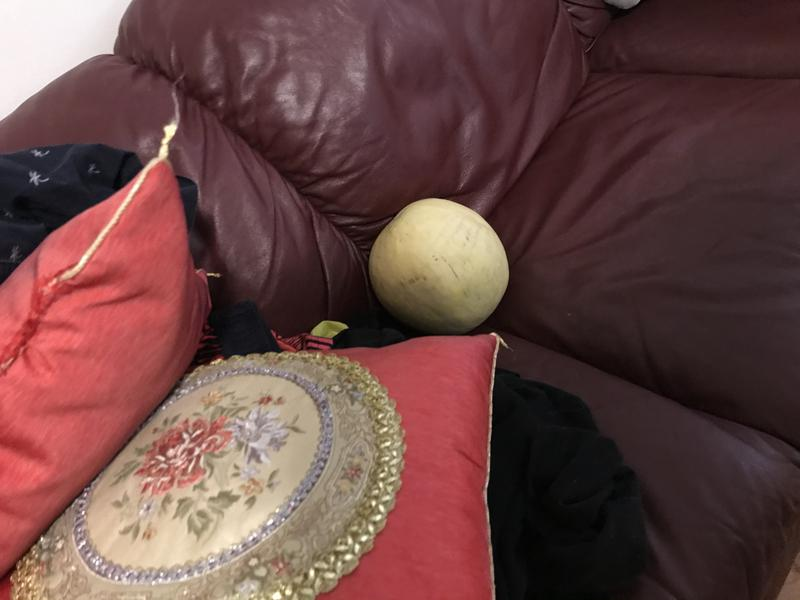honeydew: (360, 188, 525, 344)
